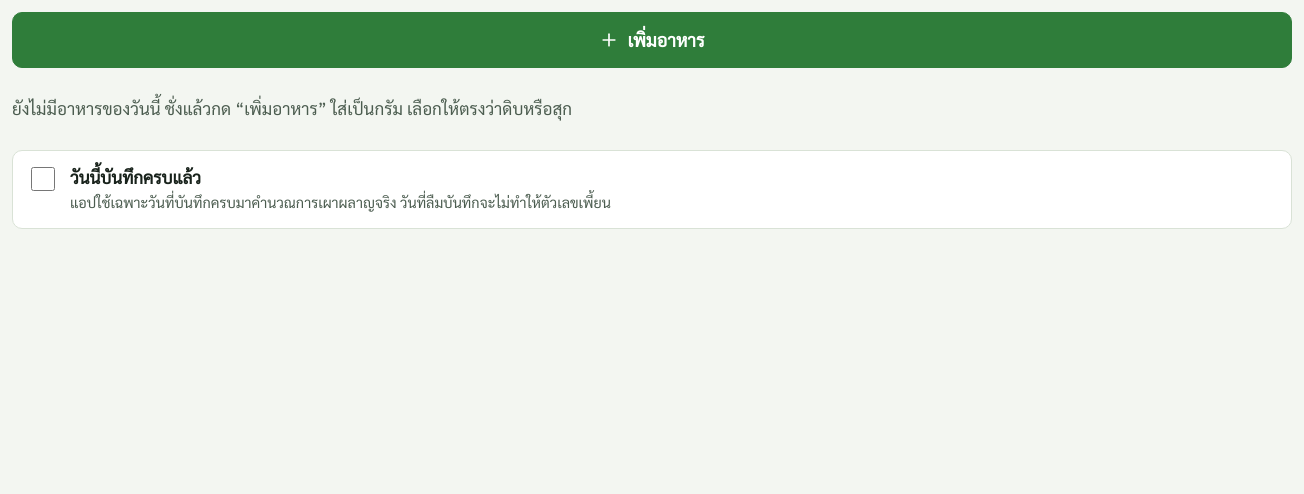
Test: FoodLogScreen › search results label raw and cooked
Click the button "เพิ่มอาหาร". click: (652, 40)
box: [12,12,1292,68]
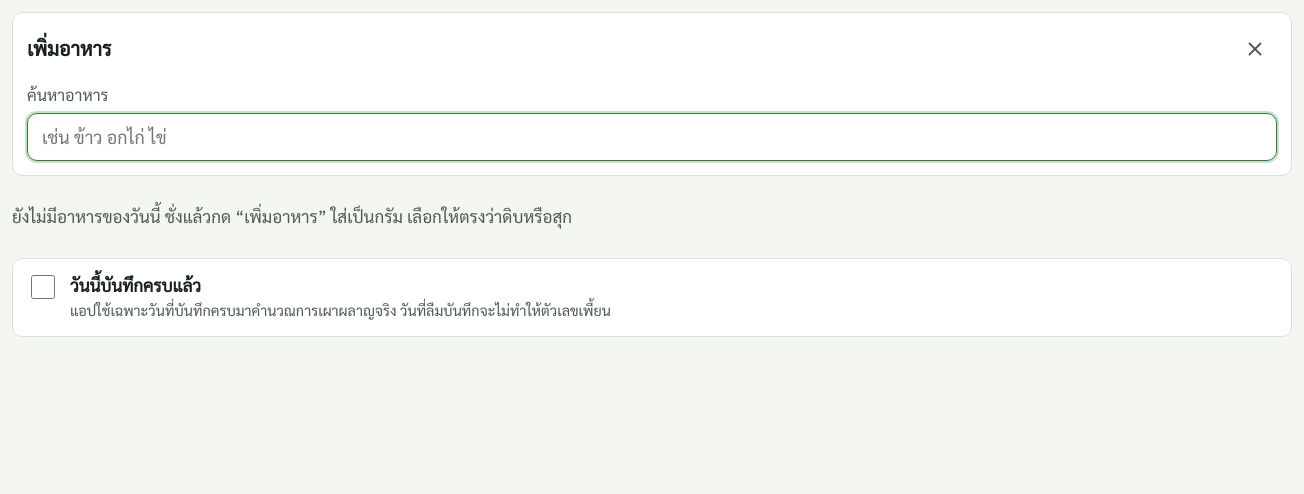
Type "อกไก่" into the search field labelled "ค้นหาอาหาร". click: (652, 137)
box: [27,113,1277,161]
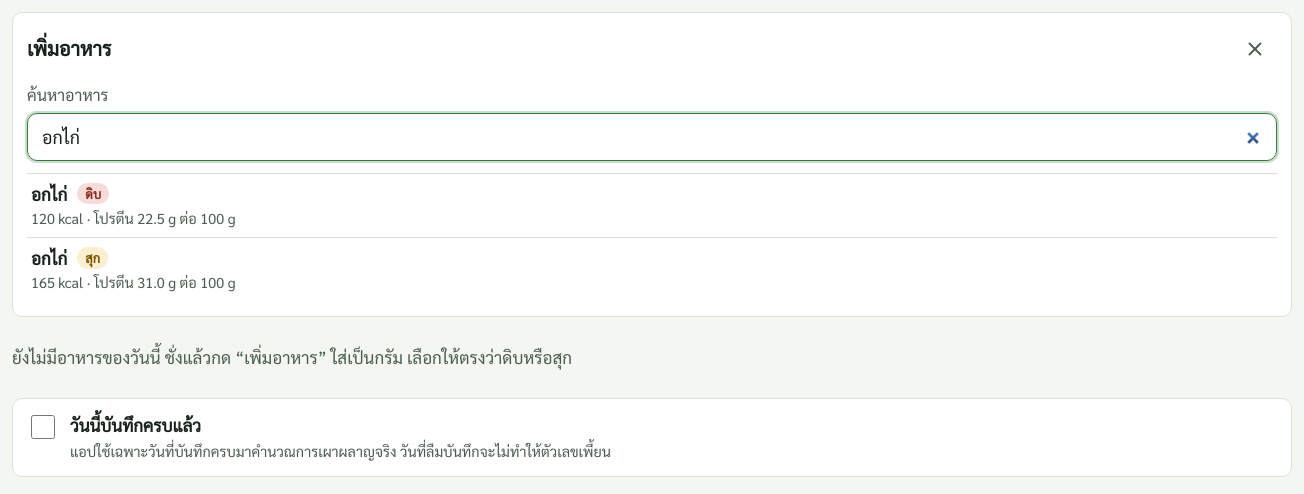
Now the text "ดิบ" is shown, box [77,183,109,204]
Now the text "สุก" is shown, box [77,247,108,268]
